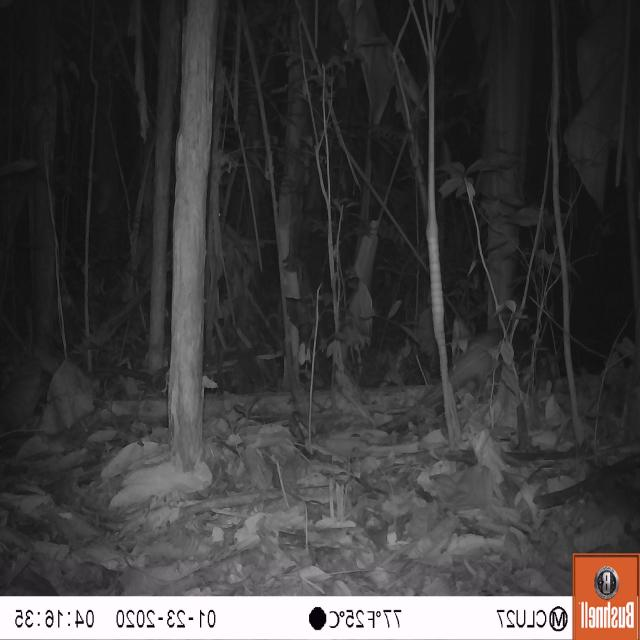Southern Tamandua: (369, 314, 544, 441)
